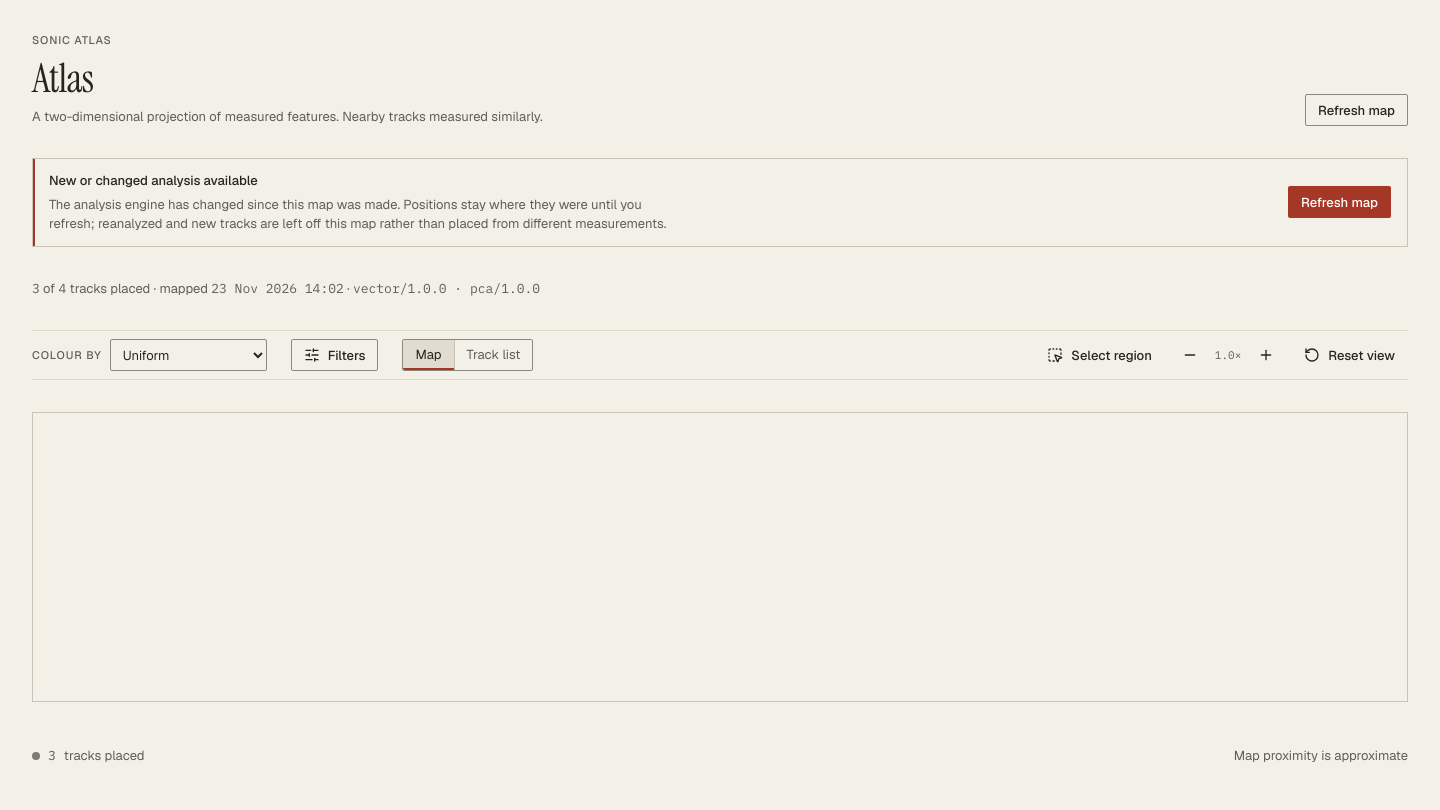
Test: AtlasPage › links a neighbour that is not on this map to its Observatory page
expect the element named "Sonic Atlas map. Arrow keys pan, plus and minus zoom, Home r" is shown: met, box [32, 412, 1408, 702]
Step 1. Click the radio button labelled "Track list" → coordinates (493, 355), box [454, 340, 532, 370]
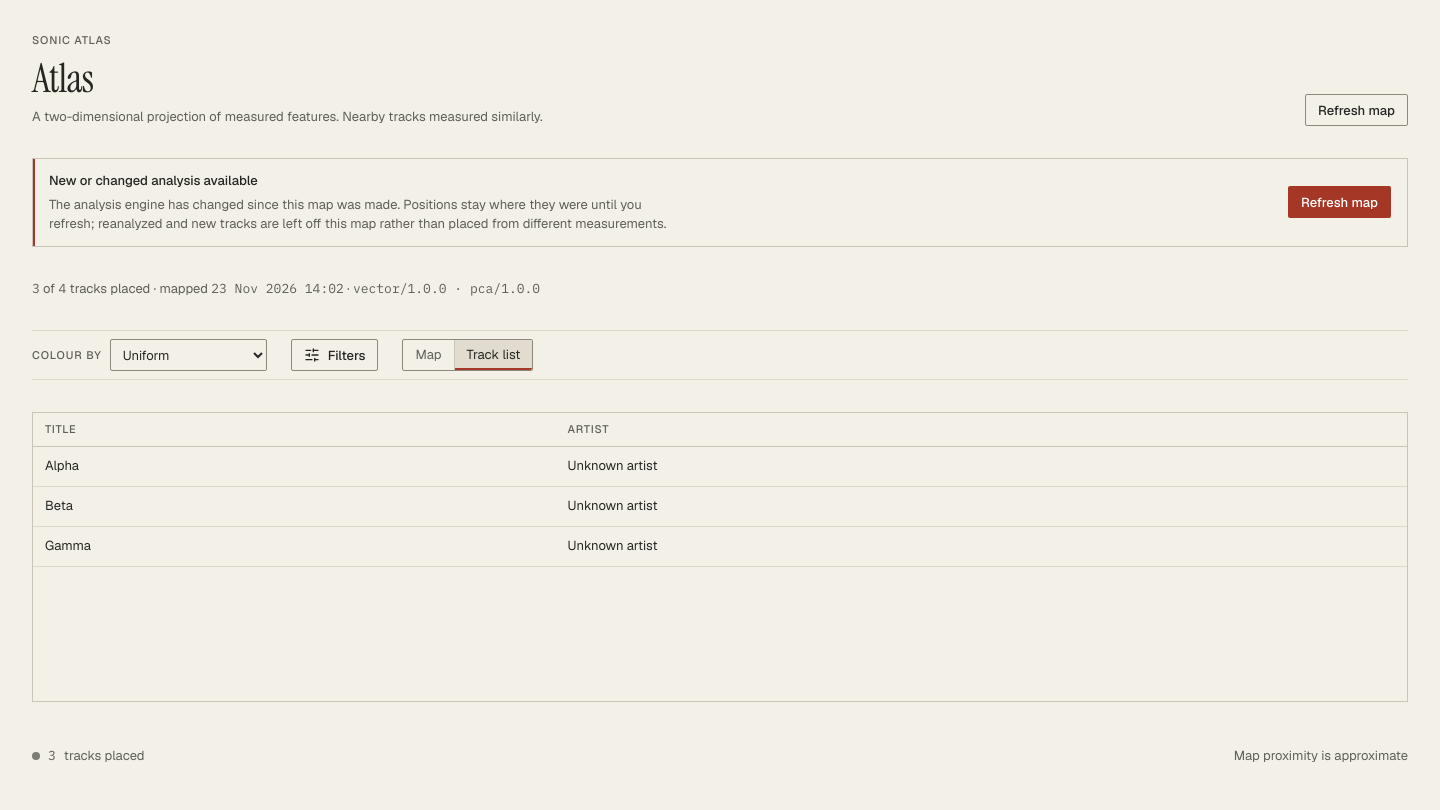
Step 2. Click the button "Alpha" → coordinates (62, 466), box [45, 456, 79, 476]
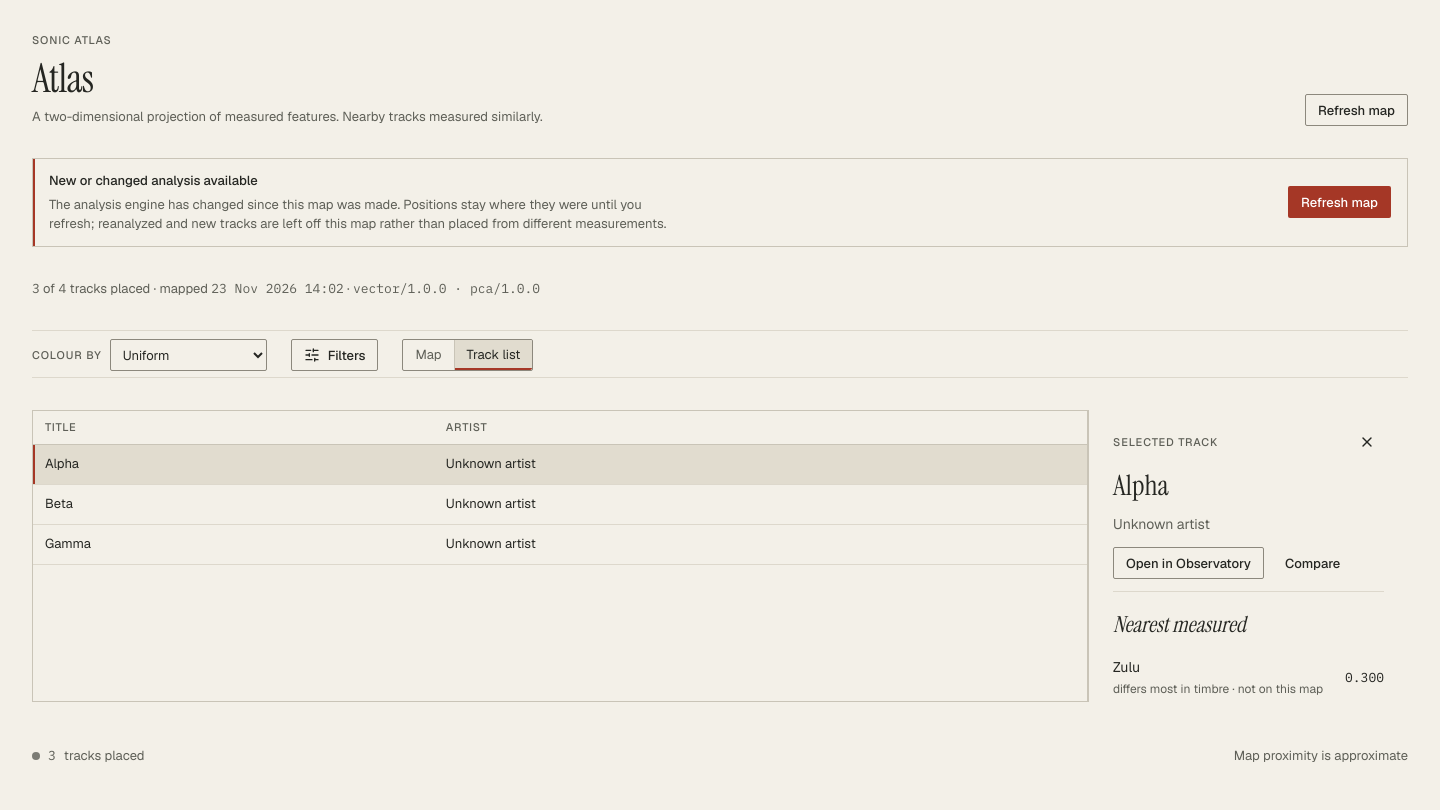
expect the text "differs most in timbre · not on this map" is shown: met, box [1113, 680, 1323, 698]
